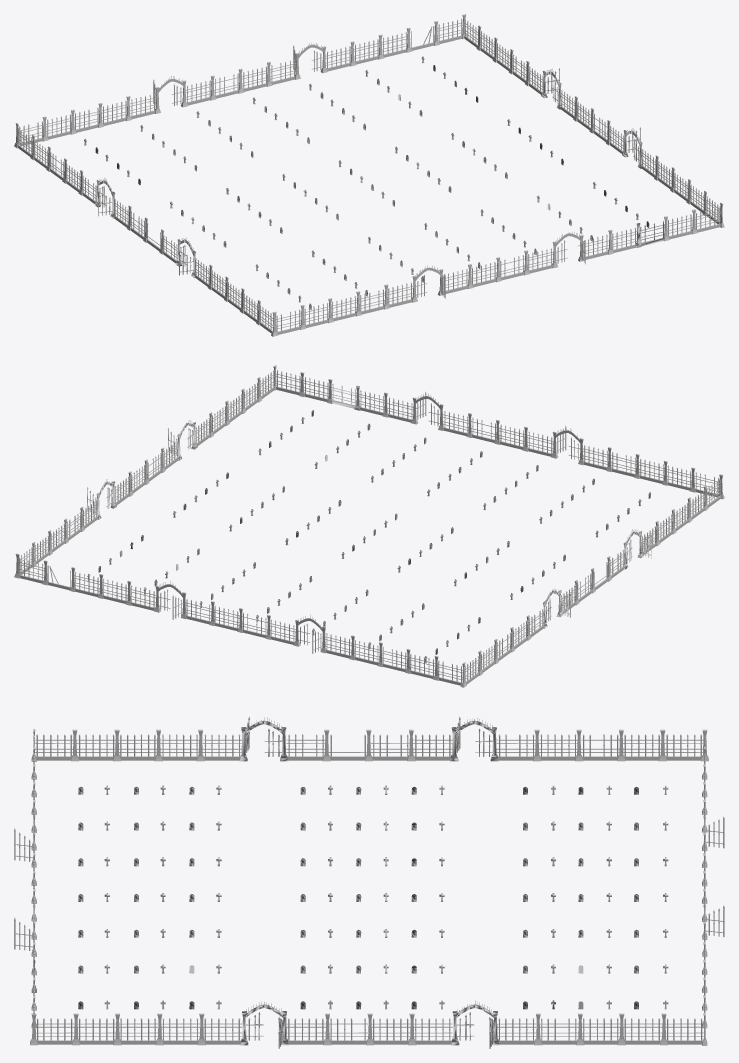
File: Cimetière1.FBX
3 renders of one model, top to bottom at view 1: azimuth 30°, elevation 25°; view 2: azimuth 150°, elevation 25°; view 3: azimuth 270°, elevation 25°, orthographic. The views are drawn at different scales.
Parts seen in each view (by area): view 1: Cimetiere; view 2: Cimetiere; view 3: Cimetiere.
Boxes of the visible parts, bbox=[...] form: Cimetiere: bbox=[14, 14, 724, 336]; Cimetiere: bbox=[14, 365, 724, 687]; Cimetiere: bbox=[14, 717, 724, 1048].
Size of the model in its own units: 6671 by 463 by 6662.
